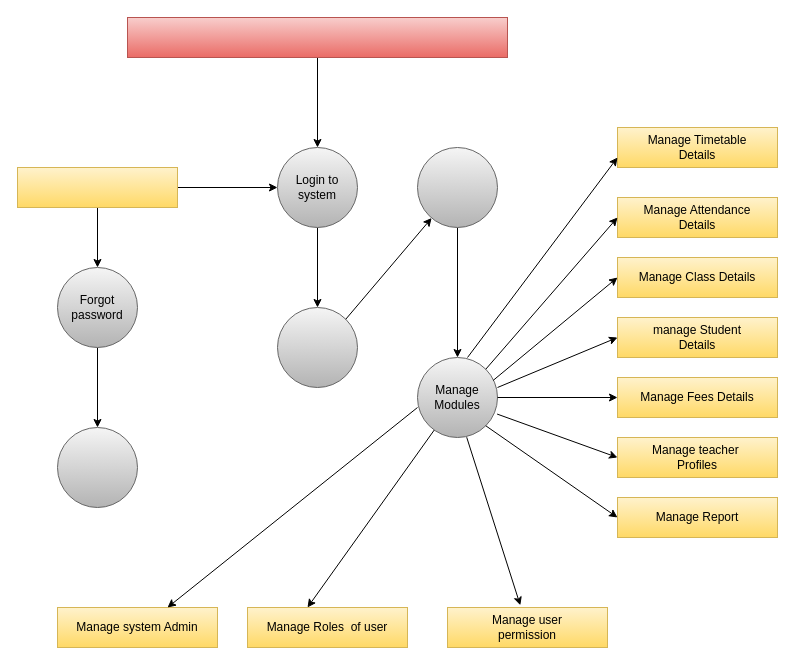
Some shapes in this 795 by 665 pixel diagram are drawn without their labels. The shapes that lost their labels are listed below. From the top down, each one's box as (x1, y1, x2, y2) in pixels, then its label:
(126, 16, 508, 58): Student information system
(16, 166, 178, 208): Admin
(416, 146, 498, 228): Check roles of access
(276, 306, 358, 388): Check Credentils
(56, 426, 138, 508): Send mail to user
